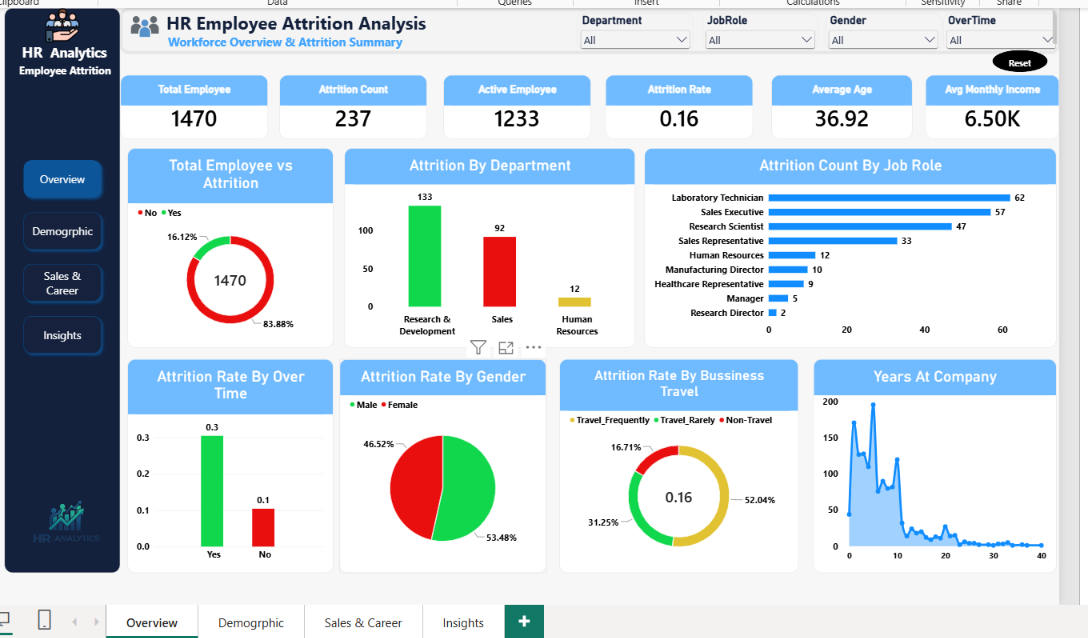

The dashboard page shown, as its layout file describes it:
{"tool":"powerbi","page":{"name":"Overview","canvas":[1920,1080],"ordinal":0},"visuals":[{"type":"textbox","box":[10.9,0,209.9,1022.5],"z":0},{"type":"image","box":[229.8,0,70.6,67],"z":1000},{"type":"textbox","box":[266,0,209.9,200.9],"z":2000},{"type":"textbox","box":[220.8,0,1699.3,81.4],"z":3000},{"type":"slicer","fields":{"Values":["HR-Employee-Attrition.Department"]},"box":[1047.8,9,209.9,67],"z":4000},{"type":"slicer","fields":{"Values":["HR-Employee-Attrition.JobRole"]},"box":[1274,9,209.9,67],"z":5000},{"type":"slicer","fields":{"Values":["HR-Employee-Attrition.Gender"]},"box":[1496.6,9,209.9,67],"z":6000},{"type":"slicer","fields":{"Values":["HR-Employee-Attrition.OverTime"]},"box":[1710.1,9,209.9,67],"z":7000},{"type":"card","title":"Total Employee","fields":{"Values":["HR-Employee-Attrition.Total Employees"]},"box":[220.8,121.2,267,115.8],"z":8000},{"type":"card","title":"Attrition Count","fields":{"Values":["HR-Employee-Attrition.Attrition Count"]},"box":[508.5,121.2,267,115.8],"z":9000},{"type":"card","title":"Active Employee","fields":{"Values":["HR-Employee-Attrition.Active Employees"]},"box":[805.3,121.2,267,115.8],"z":10000},{"type":"card","title":"Attrition Rate","fields":{"Values":["HR-Employee-Attrition.Attrition Rate"]},"box":[1098.5,121.2,267,115.8],"z":11000},{"type":"card","title":"Average Age","fields":{"Values":["HR-Employee-Attrition.Average Age"]},"box":[1398.9,121.2,255.2,115.8],"z":12000},{"type":"card","title":"Avg  Monthly Income","fields":{"Values":["HR-Employee-Attrition.Average Monthly Income"]},"box":[1677.6,121.2,242.5,115.8],"z":13000},{"type":"donutChart","title":"Total Employee vs Attrition","fields":{"Category":["HR-Employee-Attrition.Attrition"],"Y":["Count(HR-Employee-Attrition.EmployeeNumber)"]},"box":[233.4,253.4,372.8,361.9],"z":14000},{"type":"clusteredColumnChart","title":"Attrition By Department","fields":{"Category":["HR-Employee-Attrition.Department"],"Y":["HR-Employee-Attrition.Attrition Count"]},"box":[626.1,253.4,526.6,361.9],"z":15000},{"type":"barChart","title":"Attrition Count By Job Role","fields":{"Category":["HR-Employee-Attrition.JobRole"],"Y":["HR-Employee-Attrition.Attrition Count"]},"box":[1169,253.4,745.6,361.9],"z":16000},{"type":"columnChart","title":"Attrition Rate By Over Time","fields":{"Category":["HR-Employee-Attrition.OverTime"],"Y":["HR-Employee-Attrition.Attrition Rate"]},"box":[233.4,635.2,372.8,387.3],"z":17000},{"type":"pieChart","title":"Attrition Rate By Gender","fields":{"Category":["HR-Employee-Attrition.Gender"],"Y":["HR-Employee-Attrition.Attrition Rate"]},"box":[617.1,635.2,374.6,387.3],"z":18000},{"type":"donutChart","title":"Attrition Rate By Bussiness Travel","fields":{"Category":["HR-Employee-Attrition.BusinessTravel"],"Y":["HR-Employee-Attrition.Attrition Rate"]},"box":[1015.2,635.2,432.5,387.3],"z":19000},{"type":"lineChart","title":"Years At Company","fields":{"Category":["HR-Employee-Attrition.YearsAtCompany"],"Y":["CountNonNull(HR-Employee-Attrition.Attrition)"]},"box":[1474.9,635.2,439.7,387.3],"z":20000},{"type":"pageNavigator","box":[36.2,266,159.3,369.2],"z":21000},{"type":"image","box":[85.1,0,61.5,63.3],"z":22000},{"type":"actionButton","box":[1798.8,76,100,40],"z":23000},{"type":"image","box":[0,780,246.1,300.4],"z":24000}]}

Visuals, with their boxes on the page's 1920x1080 design canvas (x1, y1, x2, y2). These are canvas units, not pixel positions in the 1088x638 screenshot, which may show the page scaled, cropped or inside an application window:
textbox: x1=11 y1=0 x2=221 y2=1022
image: x1=230 y1=0 x2=300 y2=67
textbox: x1=266 y1=0 x2=476 y2=201
textbox: x1=221 y1=0 x2=1920 y2=81
slicer - HR-Employee-Attrition.Department: x1=1048 y1=9 x2=1258 y2=76
slicer - HR-Employee-Attrition.JobRole: x1=1274 y1=9 x2=1484 y2=76
slicer - HR-Employee-Attrition.Gender: x1=1497 y1=9 x2=1706 y2=76
slicer - HR-Employee-Attrition.OverTime: x1=1710 y1=9 x2=1920 y2=76
"Total Employee" card: x1=221 y1=121 x2=488 y2=237
"Attrition Count" card: x1=508 y1=121 x2=776 y2=237
"Active Employee" card: x1=805 y1=121 x2=1072 y2=237
"Attrition Rate" card: x1=1098 y1=121 x2=1366 y2=237
"Average Age" card: x1=1399 y1=121 x2=1654 y2=237
"Avg  Monthly Income" card: x1=1678 y1=121 x2=1920 y2=237
"Total Employee vs Attrition" donutChart: x1=233 y1=253 x2=606 y2=615
"Attrition By Department" clusteredColumnChart: x1=626 y1=253 x2=1153 y2=615
"Attrition Count By Job Role" barChart: x1=1169 y1=253 x2=1915 y2=615
"Attrition Rate By Over Time" columnChart: x1=233 y1=635 x2=606 y2=1022
"Attrition Rate By Gender" pieChart: x1=617 y1=635 x2=992 y2=1022
"Attrition Rate By Bussiness Travel" donutChart: x1=1015 y1=635 x2=1448 y2=1022
"Years At Company" lineChart: x1=1475 y1=635 x2=1915 y2=1022
pageNavigator: x1=36 y1=266 x2=196 y2=635
image: x1=85 y1=0 x2=147 y2=63
actionButton: x1=1799 y1=76 x2=1899 y2=116
image: x1=0 y1=780 x2=246 y2=1080
